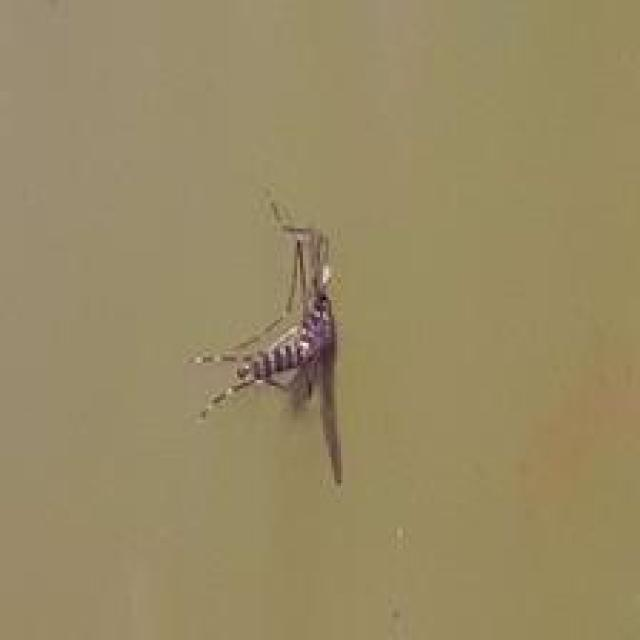Aedes albopictus: (187, 196, 344, 484)
